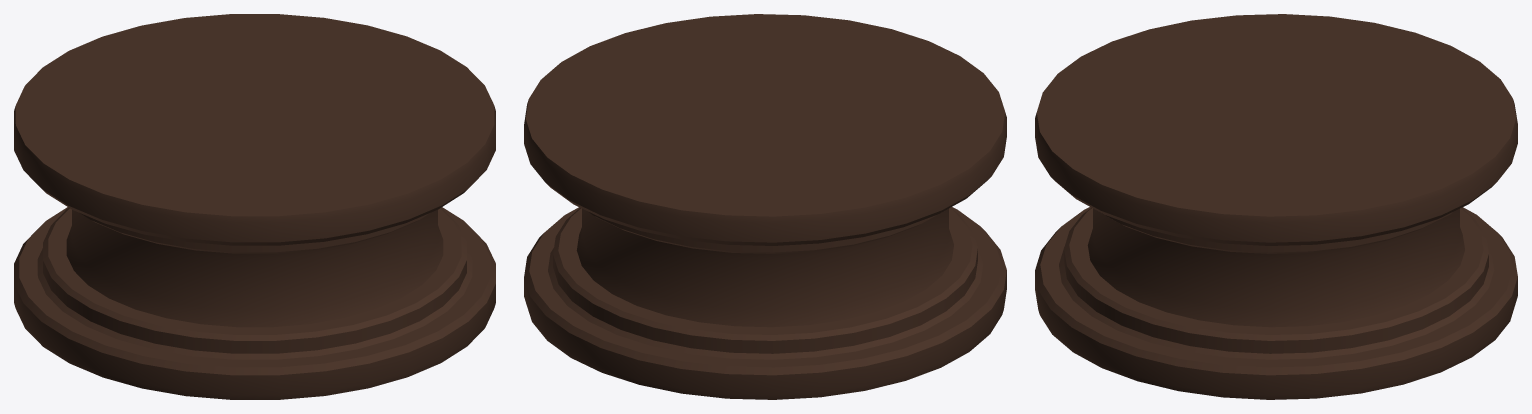
Rendered from TowerRing_01_Prototyp_Mesh.fbx.
3 views of the same model, side by side, from view 1: azimuth 30°, elevation 25°; view 2: azimuth 150°, elevation 25°; view 3: azimuth 270°, elevation 25° (orthographic).
Parts seen in each view (by area): view 1: Cylinder.028; view 2: Cylinder.028; view 3: Cylinder.028.
Boxes of the visible parts, bbox=[...] form: Cylinder.028: bbox=[14, 14, 495, 399]; Cylinder.028: bbox=[524, 14, 1006, 399]; Cylinder.028: bbox=[1035, 14, 1517, 399].
Size of the model in its own units: 672 by 282 by 672.
